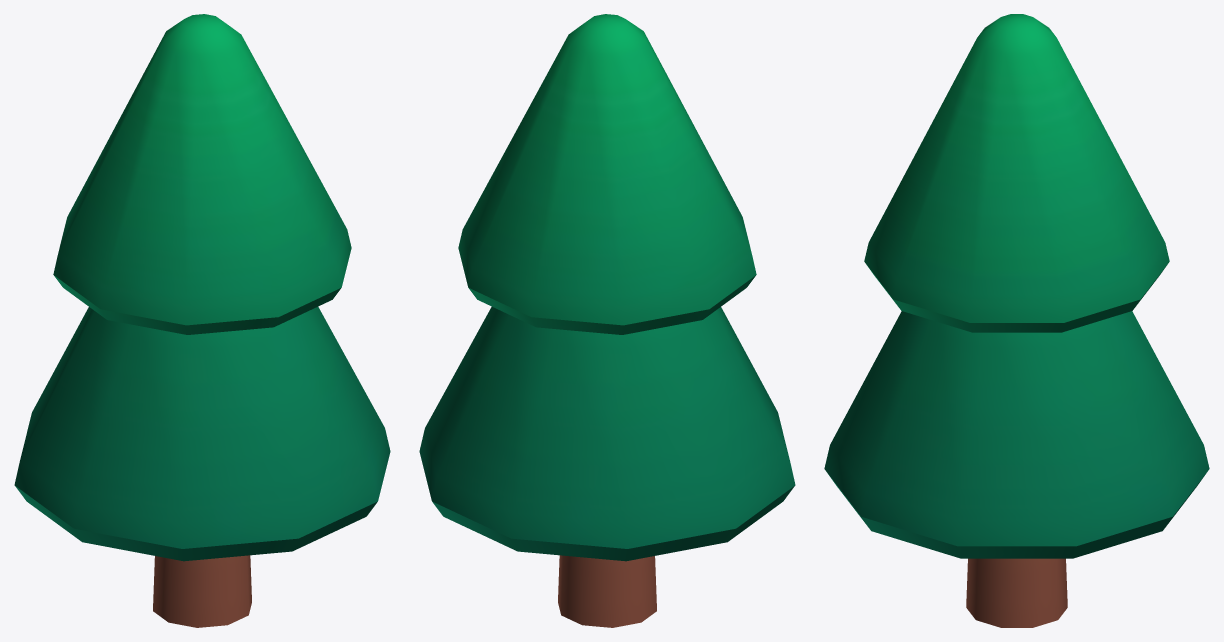
The model's file is fir-tree.glb.
The picture shows the model from 3 angles, left to right: view 1: azimuth 30°, elevation 25°; view 2: azimuth 150°, elevation 25°; view 3: azimuth 270°, elevation 25°; orthographic projection.
Parts seen in each view (by area): view 1: tree_single_B; view 2: tree_single_B; view 3: tree_single_B.
Part boxes in pixels (x1,y1,x2,y2): tree_single_B: (14,14,390,627); tree_single_B: (419,14,795,627); tree_single_B: (824,14,1209,627).
Size of the model in its own units: 0.6849 by 1.21 by 0.7201.
1 material, 1 textured.
